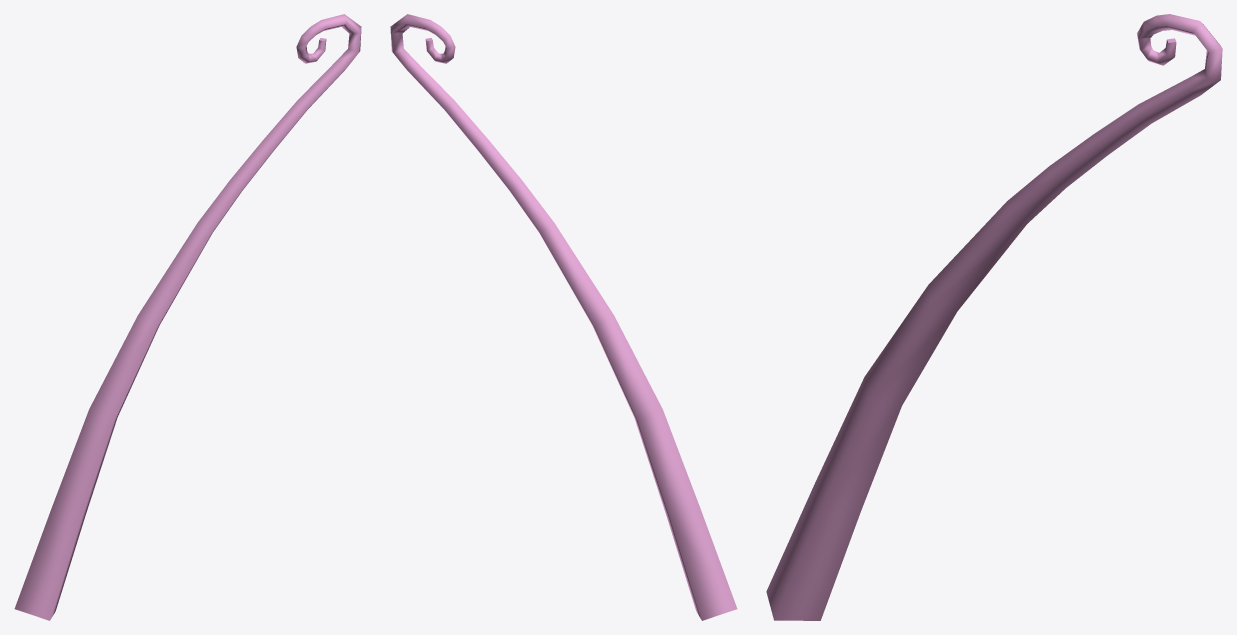
File: slingshot.obj
The picture shows the model from 3 angles, left to right: view 1: azimuth 30°, elevation 25°; view 2: azimuth 150°, elevation 25°; view 3: azimuth 330°, elevation 25°; orthographic projection. The views are drawn at different scales.
Parts seen in each view (by area): view 1: Cylinder001; view 2: Cylinder001; view 3: Cylinder001.
Part boxes in pixels (bbox=[...]): Cylinder001: bbox=[14, 14, 361, 620]; Cylinder001: bbox=[390, 14, 737, 620]; Cylinder001: bbox=[766, 14, 1222, 620].
Size of the model in its own units: 50.74 by 73.59 by 7.49.
